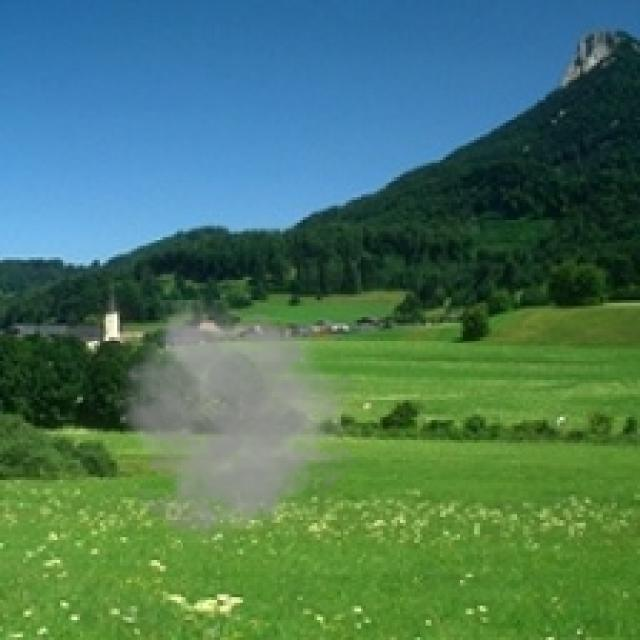smoke: (108, 300, 363, 554)
